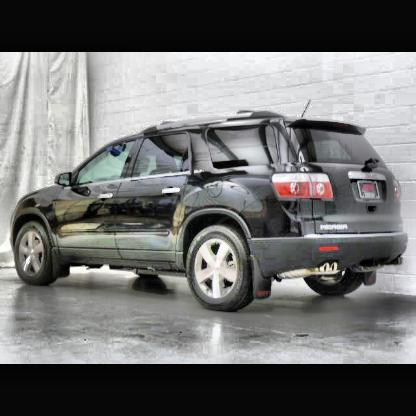GMC Acadia SUV 2012: (9, 109, 410, 313)
